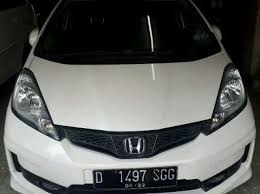plate: (93, 167, 178, 187)
